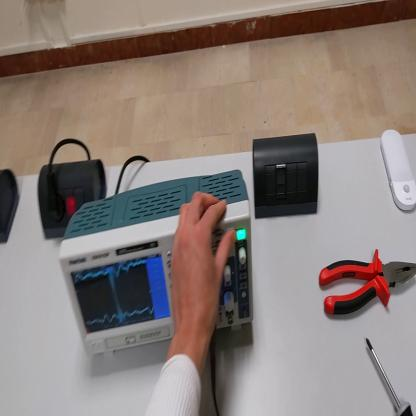hand: (171, 191, 236, 339)
oscilloscope: (63, 168, 256, 354)
pliers: (320, 253, 416, 327)
screwdriver-: (365, 339, 414, 415)
socket: (37, 159, 107, 240), (2, 160, 20, 246)
